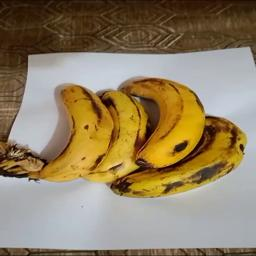Banana Semifresh: (11, 68, 251, 197)
